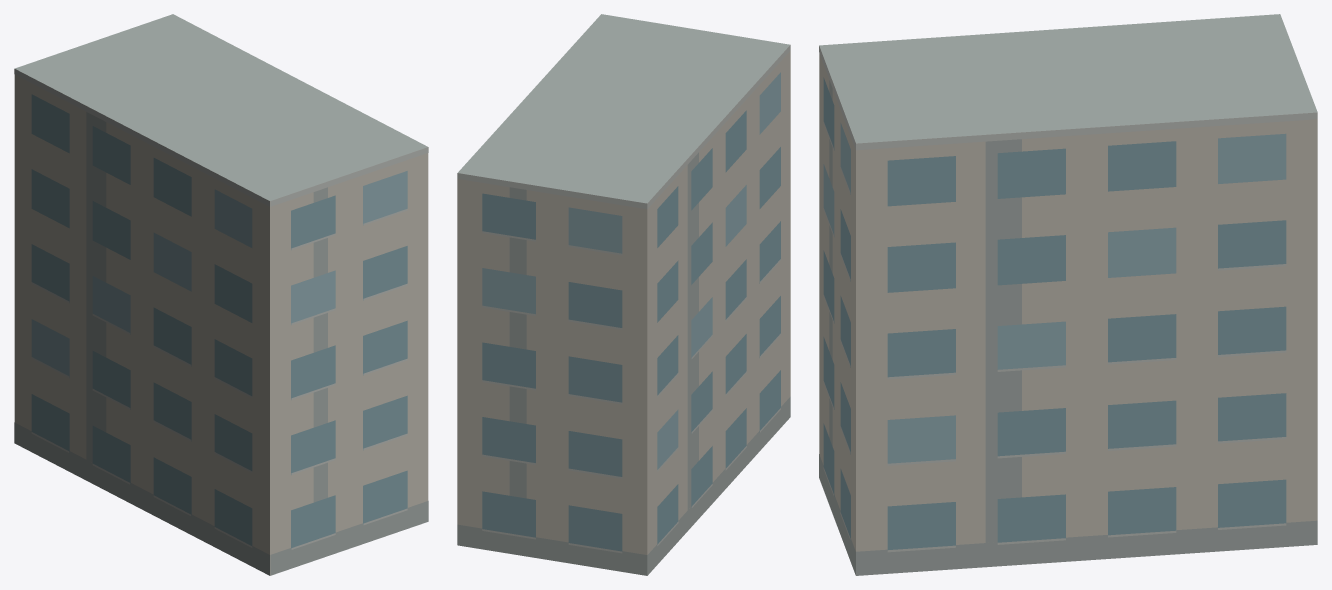
File: survey-upis-32574643.glb
3 renders of one model, left to right at view 1: azimuth 30°, elevation 25°; view 2: azimuth 150°, elevation 25°; view 3: azimuth 270°, elevation 25°, orthographic. The views are drawn at different scales.
Visible parts, largest first — view 1: survey-upis-32574643.tmp; view 2: survey-upis-32574643.tmp; view 3: survey-upis-32574643.tmp.
Boxes of the visible parts, x1,y1,x2,y2 form: survey-upis-32574643.tmp: [14, 14, 428, 575]; survey-upis-32574643.tmp: [457, 14, 790, 575]; survey-upis-32574643.tmp: [819, 14, 1317, 575].
Size of the model in its own units: 10.04 by 15.6 by 16.32.
